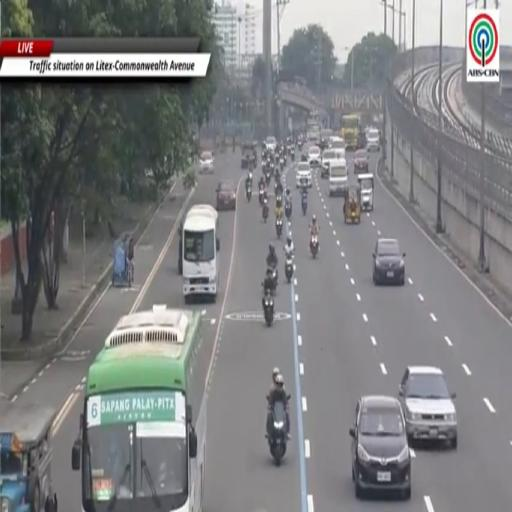bus: (72, 306, 210, 511), (181, 204, 219, 303), (340, 115, 360, 150), (307, 119, 321, 143)
car: (350, 395, 411, 500), (399, 366, 457, 449), (373, 238, 405, 285), (216, 180, 236, 211), (321, 149, 336, 178), (296, 163, 312, 187), (366, 128, 380, 151), (307, 145, 321, 168), (354, 150, 368, 173), (200, 152, 214, 173), (330, 137, 345, 151), (264, 136, 276, 152)
motorcycle: (267, 402, 287, 466), (264, 291, 273, 326), (285, 254, 293, 283), (310, 235, 318, 258), (271, 267, 278, 292), (262, 199, 269, 222), (301, 194, 308, 216), (274, 181, 282, 197), (276, 218, 282, 237), (285, 201, 291, 220), (258, 188, 264, 206), (246, 183, 251, 201), (276, 190, 282, 204), (265, 170, 270, 186), (280, 156, 284, 171), (270, 162, 274, 173), (291, 149, 294, 162)
tricycle: (0, 402, 57, 511), (112, 233, 133, 286)
truck: (340, 115, 361, 150)
